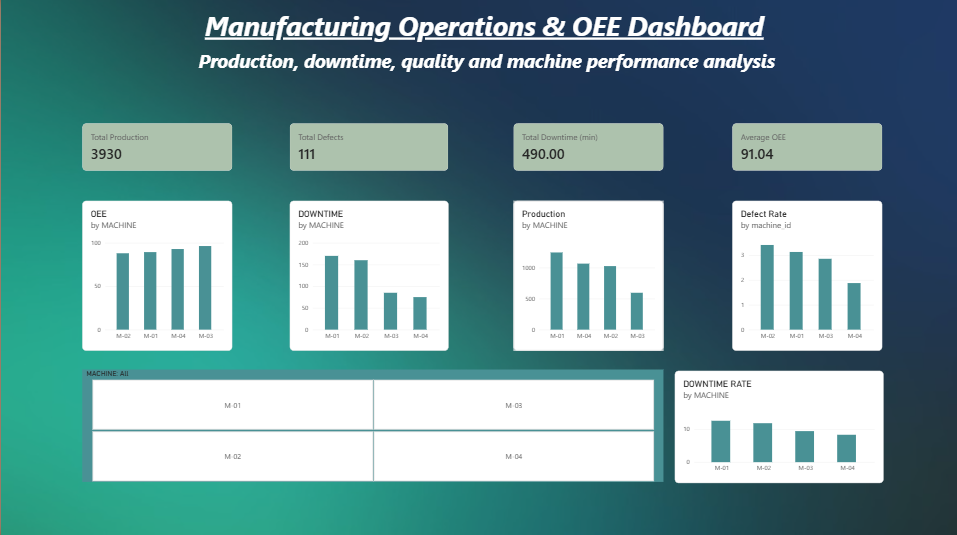

The dashboard page shown, as its layout file describes it:
{"tool":"powerbi","page":{"name":"Manufacturing Operations Overview","canvas":[1920,1080],"ordinal":0},"visuals":[{"type":"cardVisual","fields":{"Data":["Sum(Management Overview.actual_qty)"]},"box":[162.5,252.5,300,95],"z":0},{"type":"cardVisual","fields":{"Data":["Sum(Management Overview.defect_qty)"]},"box":[577.5,252.5,317.5,95],"z":1000},{"type":"cardVisual","fields":{"Data":["Sum(Management Overview.total_downtime)"]},"box":[1025,252.5,300,95],"z":2000},{"type":"cardVisual","fields":{"Data":["Avg(Management Overview.OEE)"]},"box":[1462.5,252.5,300,95],"z":3000},{"type":"clusteredColumnChart","fields":{"Category":["Management Overview.machine_id"],"Y":["Avg(Management Overview.OEE)"]},"box":[162.5,407.5,300,300],"z":4000},{"type":"clusteredColumnChart","fields":{"Category":["Management Overview.machine_id"],"Y":["Sum(Management Overview.total_downtime)"]},"box":[577.5,407.5,317.5,300],"z":5000},{"type":"clusteredColumnChart","fields":{"Category":["vw_oee_analysis.machine_id"],"Y":["vw_oee_analysis.Defect Rate"]},"box":[1462.5,407.5,300,300],"z":6000},{"type":"clusteredColumnChart","fields":{"Category":["vw_oee_analysis.machine_id"],"Y":["Sum(vw_oee_analysis.actual_qty)"]},"box":[1025,407.5,300,300],"z":7000},{"type":"textbox","box":[387.5,102.5,1167.5,150],"z":8000},{"type":"textbox","box":[407.5,20,1180,122.5],"z":9000},{"type":"slicer","fields":{"Values":["Machine.machine_id"]},"box":[162,746,1162.5,225],"z":10000},{"type":"clusteredColumnChart","fields":{"Category":["Machine.machine_id"],"Y":["Machine.Downtime Rate"]},"box":[1348,748,417.5,225],"z":11000}]}

Visuals, with their boxes in screenshot pixels (x1, y1, x2, y2), scaled from the page's 1920x1080 canvas onto the 957x535 screenshot:
cardVisual - Sum(Management Overview.actual_qty): <bbox>81, 125, 231, 172</bbox>
cardVisual - Sum(Management Overview.defect_qty): <bbox>288, 125, 446, 172</bbox>
cardVisual - Sum(Management Overview.total_downtime): <bbox>511, 125, 660, 172</bbox>
cardVisual - Avg(Management Overview.OEE): <bbox>729, 125, 878, 172</bbox>
clusteredColumnChart - Management Overview.machine_id x Avg(Management Overview.OEE): <bbox>81, 202, 231, 350</bbox>
clusteredColumnChart - Management Overview.machine_id x Sum(Management Overview.total_downtime): <bbox>288, 202, 446, 350</bbox>
clusteredColumnChart - vw_oee_analysis.machine_id x vw_oee_analysis.Defect Rate: <bbox>729, 202, 878, 350</bbox>
clusteredColumnChart - vw_oee_analysis.machine_id x Sum(vw_oee_analysis.actual_qty): <bbox>511, 202, 660, 350</bbox>
textbox: <bbox>193, 51, 775, 125</bbox>
textbox: <bbox>203, 10, 791, 71</bbox>
slicer - Machine.machine_id: <bbox>81, 370, 660, 481</bbox>
clusteredColumnChart - Machine.machine_id x Machine.Downtime Rate: <bbox>672, 371, 880, 482</bbox>
